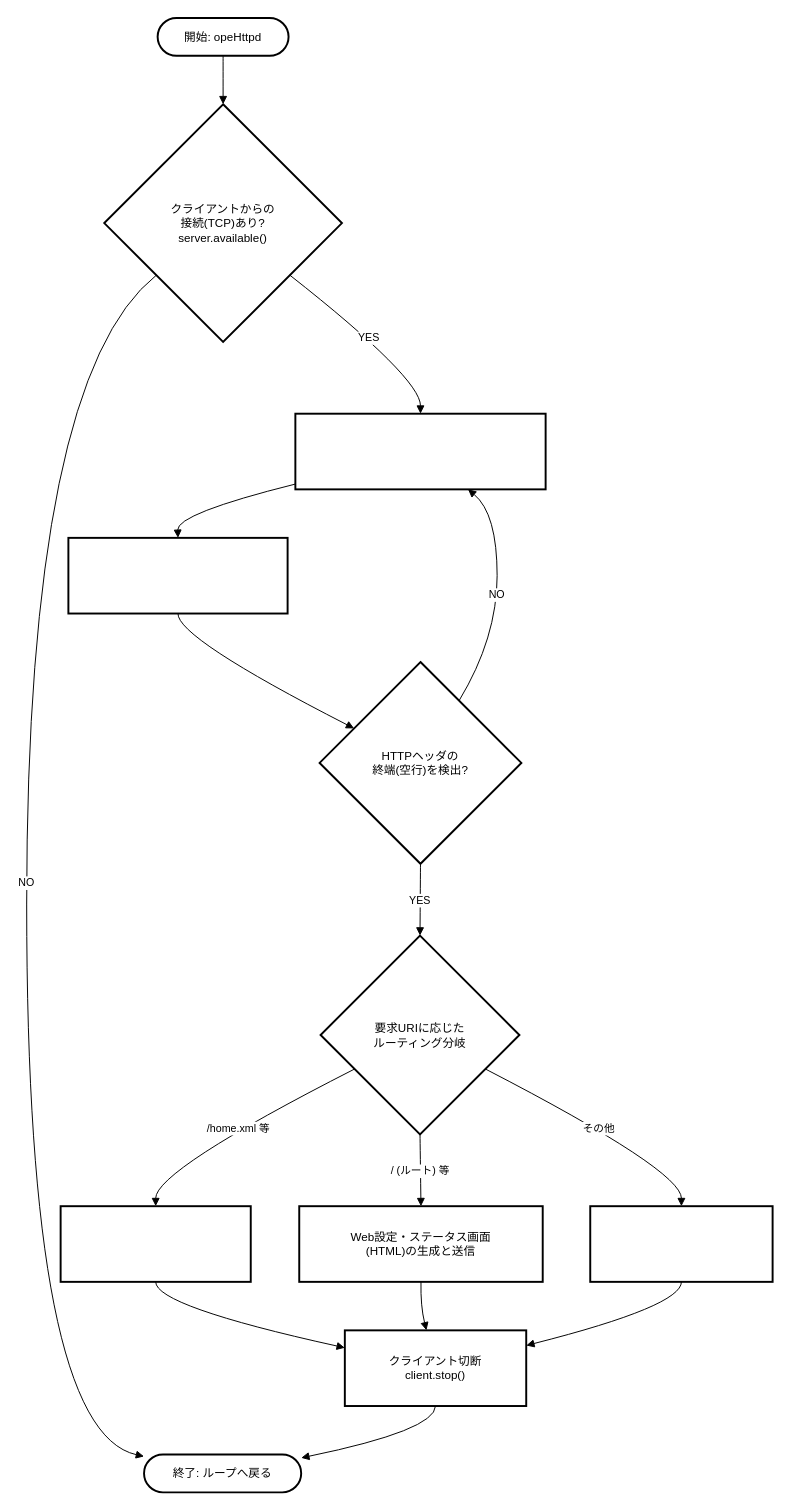
The diagram is 790 pixels wide and 1509 high, and some of its shapes have lost their labels. Here are the shapes that lost their labels. From the top down, the centre of each, then its label:
At (x=420, y=451): "HTTPリクエストの読み込み (1行ずつ改行までパース)".
At (x=177, y=575): "メソッド(GET/POST)と 要求URIの抽出".
At (x=155, y=1243): "UECSノード情報 (XML)の生成と送信".
At (x=681, y=1243): "404 Not Found エラー応答の送信".
